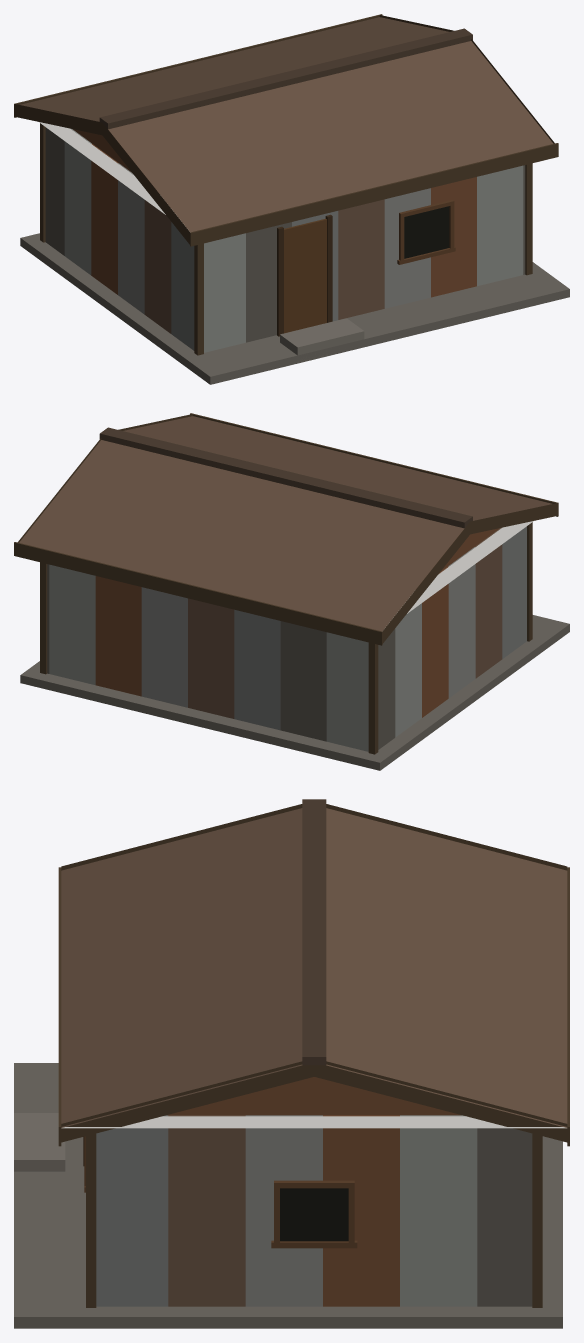
File: ns_zinc_lod1.glb
3 renders of one model, top to bottom at view 1: azimuth 30°, elevation 25°; view 2: azimuth 150°, elevation 25°; view 3: azimuth 270°, elevation 25°, orthographic. The views are drawn at different scales.
Parts seen in each view (by area): view 1: ns_zinc_lod1; view 2: ns_zinc_lod1; view 3: ns_zinc_lod1.
Part boxes in pixels (box(x1,y1,x2,y2)): ns_zinc_lod1: box(14, 14, 569, 384); ns_zinc_lod1: box(14, 413, 569, 770); ns_zinc_lod1: box(14, 799, 569, 1328).
Size of the model in its own units: 7.16 by 3.52 by 6.48.
